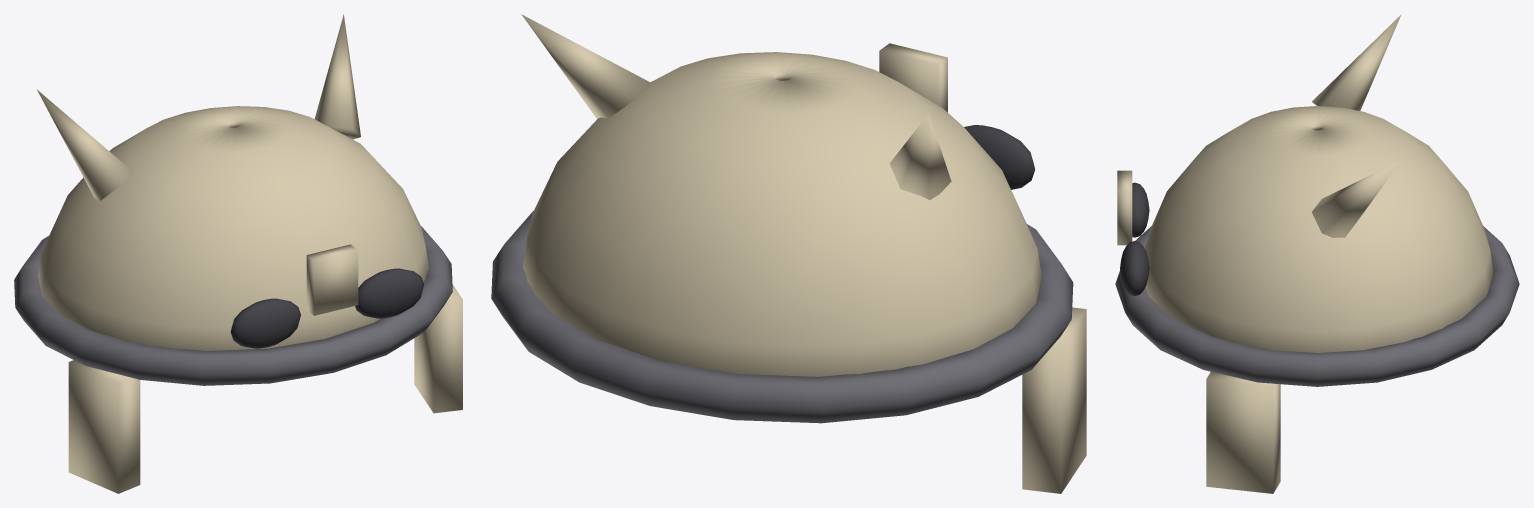
Rendered from helm-bone.glb.
3 renders of one model, left to right at view 1: azimuth 30°, elevation 25°; view 2: azimuth 150°, elevation 25°; view 3: azimuth 270°, elevation 25°, orthographic. The views are drawn at different scales.
Parts seen in each view (by area): view 1: garment, Torus.016, Cube, Cube.001, Cube.002, Cone, Cone.001, Sphere, Sphere.001; view 2: garment, Torus.016, Cube, Cone.001, Cone, Cube.002, Sphere; view 3: garment, Torus.016, Cube.001, Cone.001, Cone, Sphere.001, Cube.002, Sphere.
Boxes of the visible parts, box(x1,y1,x2,y2) form: garment: box(38, 106, 428, 350); Torus.016: box(14, 226, 452, 385); Cube: box(68, 360, 140, 493); Cube.001: box(414, 284, 462, 413); Cube.002: box(306, 244, 358, 315); Cone: box(37, 89, 134, 201); Cone.001: box(314, 14, 360, 139); Sphere: box(230, 298, 300, 348); Sphere.001: box(355, 268, 423, 318); garment: box(523, 52, 1041, 376); Torus.016: box(491, 211, 1073, 423); Cube: box(1022, 307, 1086, 493); Cone.001: box(521, 14, 651, 118); Cone: box(889, 113, 951, 200); Cube.002: box(879, 43, 947, 112); Sphere: box(964, 125, 1035, 189); garment: box(1145, 106, 1493, 352); Torus.016: box(1115, 226, 1519, 386); Cube.001: box(1206, 371, 1280, 493); Cone.001: box(1312, 160, 1401, 237); Cone: box(1312, 14, 1401, 110); Sphere.001: box(1120, 241, 1149, 295); Cube.002: box(1117, 170, 1132, 245); Sphere: box(1132, 182, 1149, 237).
Bounding box in the file's own units: 0.89 × 0.7105 × 0.8188.
